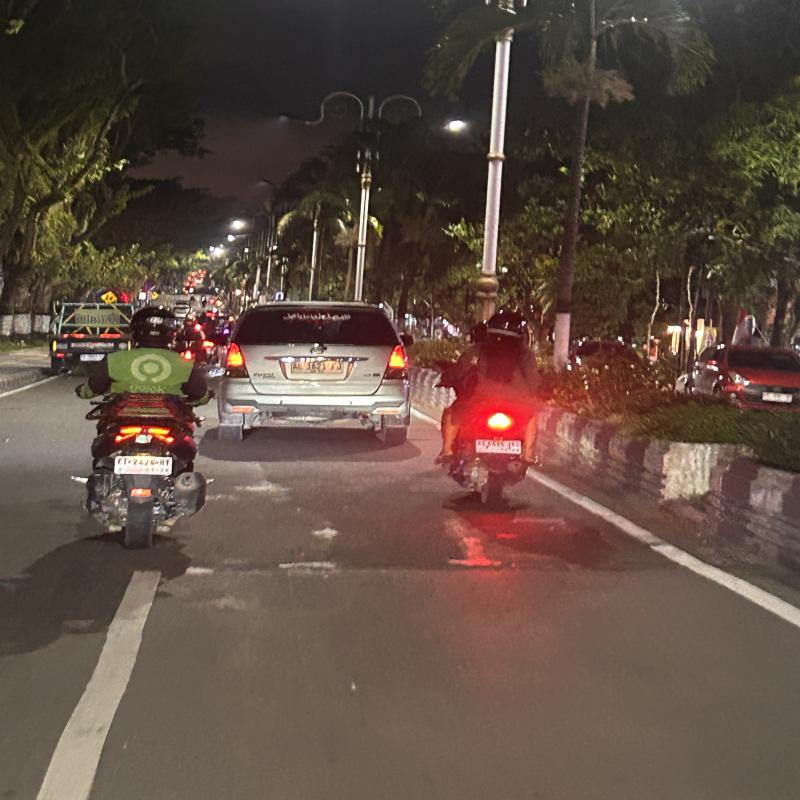license plate on a car: (290, 360, 345, 375), (80, 353, 107, 361)
